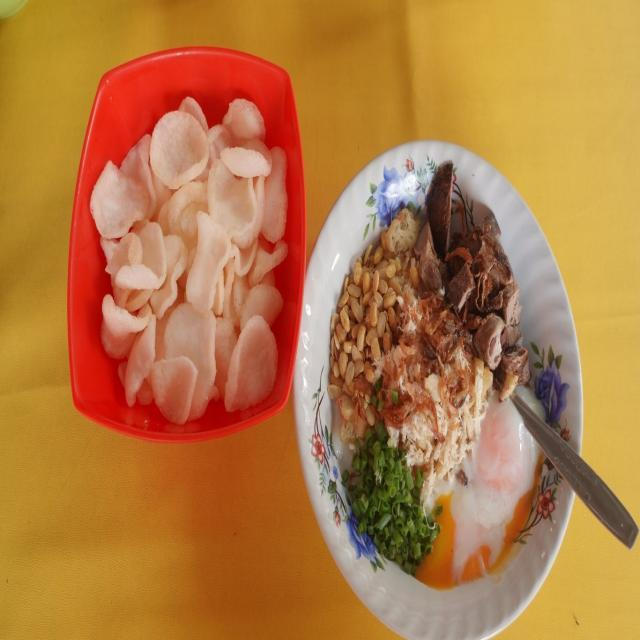bubur ayam: (332, 162, 545, 590)
mangkuk: (291, 138, 585, 637), (67, 47, 307, 445)
